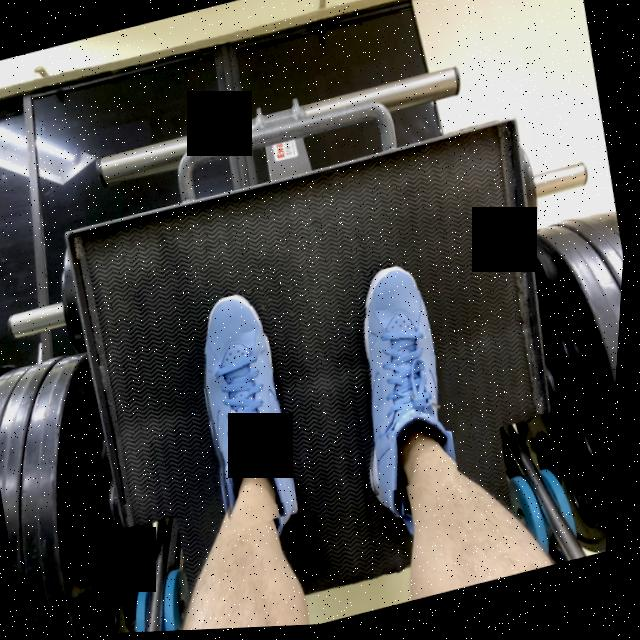shoe: (332, 261, 474, 502), (182, 288, 316, 537)
